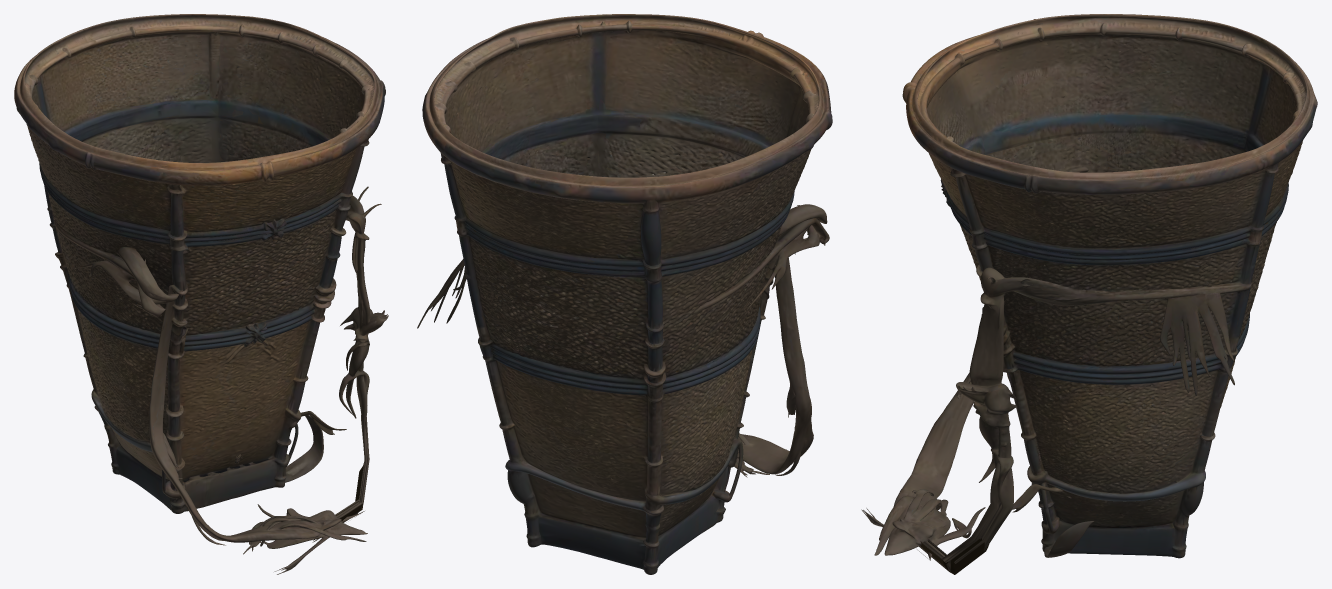
The model's file is engge.glb.
3 renders of one model, left to right at view 1: azimuth 30°, elevation 25°; view 2: azimuth 150°, elevation 25°; view 3: azimuth 270°, elevation 25°, orthographic. The views are drawn at different scales.
Parts seen in each view (by area): view 1: Object_4; view 2: Object_4; view 3: Object_4.
Boxes of the visible parts, x1,y1,x2,y2 form: Object_4: [14, 14, 388, 574]; Object_4: [417, 14, 832, 574]; Object_4: [861, 14, 1317, 574].
Size of the model in its own units: 0.7186 by 0.8741 by 0.8193.
1 material, 1 textured.
